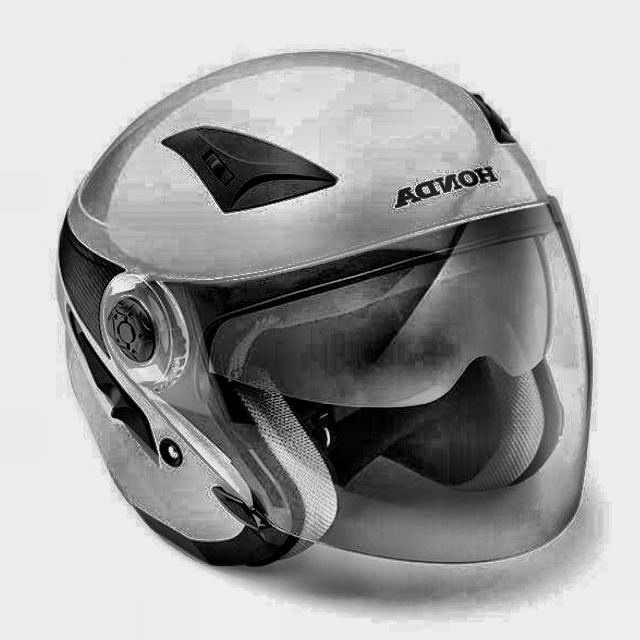Helmet: (67, 38, 590, 592)
